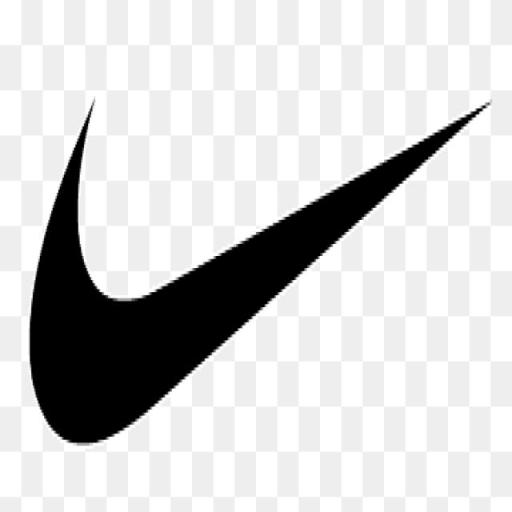Nike: (22, 72, 494, 449)
